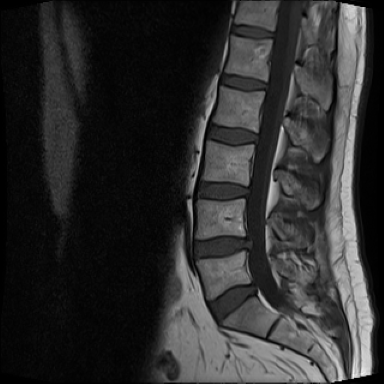Lumbar Disc Bulge (LDB): (206, 277, 259, 328), (192, 230, 257, 264)
Normal IVD: (189, 173, 254, 202), (201, 118, 262, 148), (217, 71, 272, 95), (228, 22, 278, 42)
Spinal Stenosis (SS): (240, 230, 259, 252)
